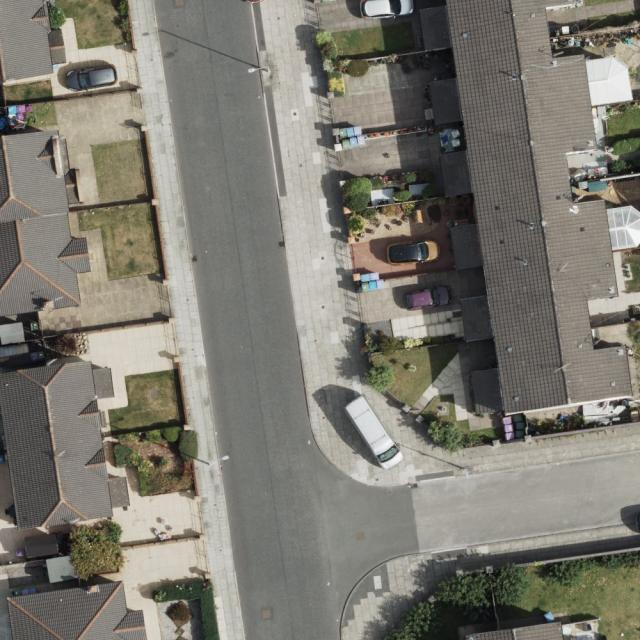roof: (446, 0, 640, 414), (0, 361, 129, 532), (0, 130, 91, 318), (8, 582, 148, 640), (0, 0, 55, 82), (467, 622, 564, 640)
skylight: (606, 204, 640, 251)
